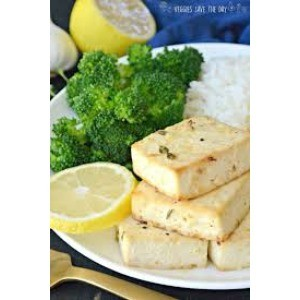tofu_brain food: (126, 114, 246, 266)
